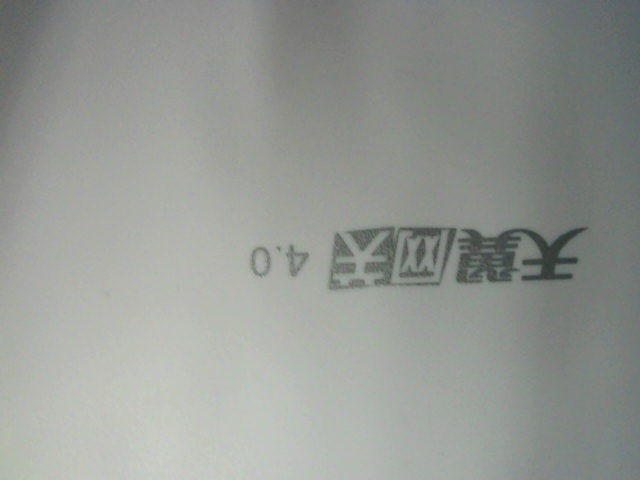BM_TianYiWangGuan: (252, 204, 593, 291)
